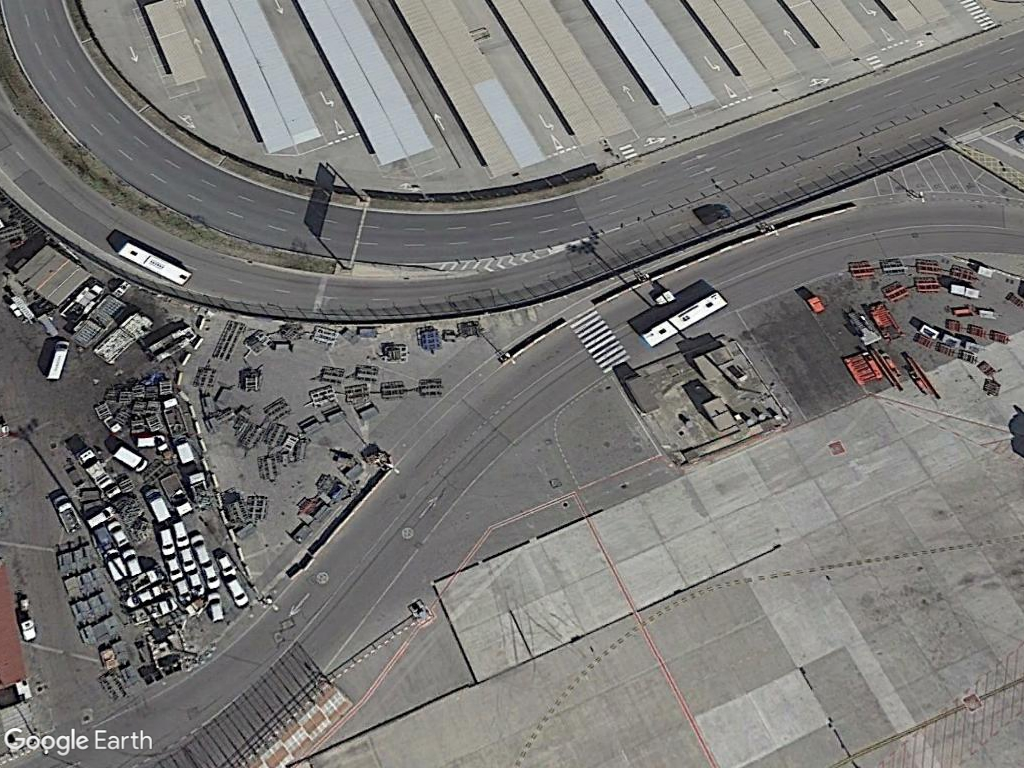bus: (110, 234, 195, 287)
van: (40, 339, 74, 384)
